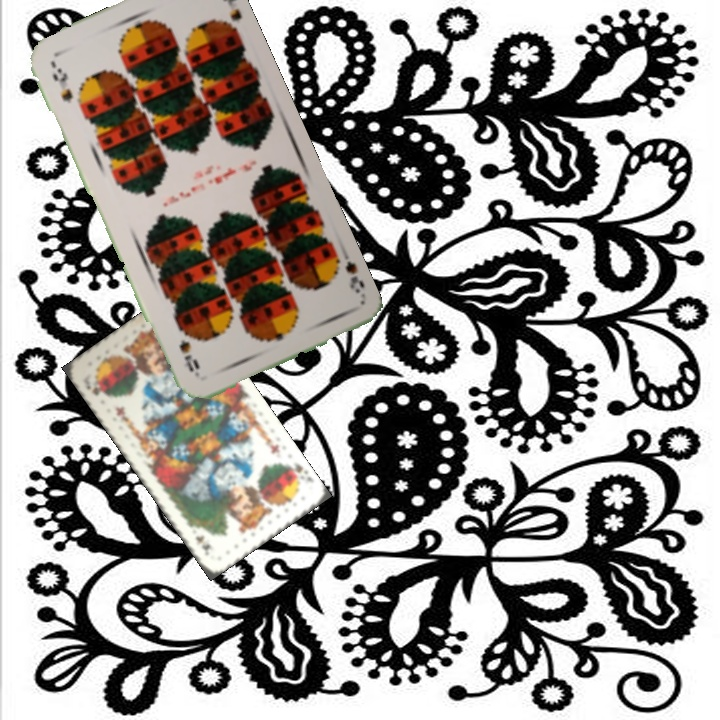S9: (327, 249, 368, 296), (46, 58, 76, 107)
SK: (83, 379, 109, 400), (281, 459, 310, 477)
